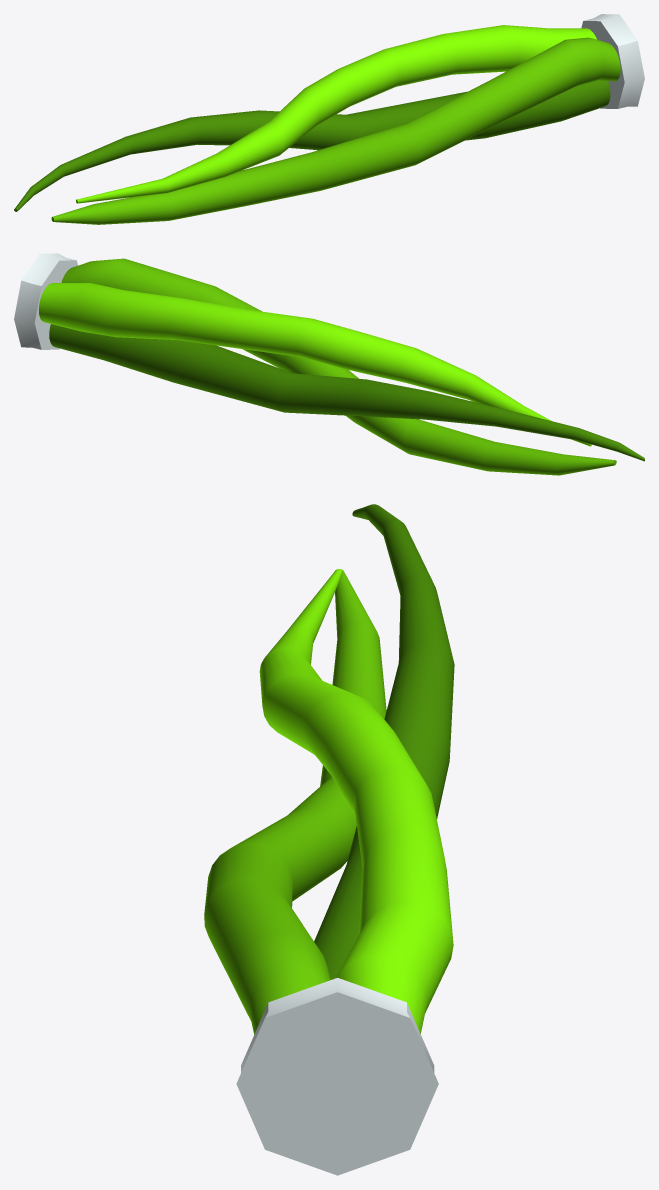
The model's file is Druid_v4_ArmR.fbx.
3 renders of one model, top to bottom at view 1: azimuth 30°, elevation 25°; view 2: azimuth 150°, elevation 25°; view 3: azimuth 270°, elevation 25°, orthographic. The views are drawn at different scales.
Parts seen in each view (by area): view 1: Arm; view 2: Arm; view 3: Arm.
Boxes of the visible parts, left/top/right/bottom form: Arm: left=14, top=14, right=644, bottom=224; Arm: left=14, top=253, right=644, bottom=475; Arm: left=204, top=504, right=454, bottom=1175.
Size of the model in its own units: 718 by 124 by 130.
